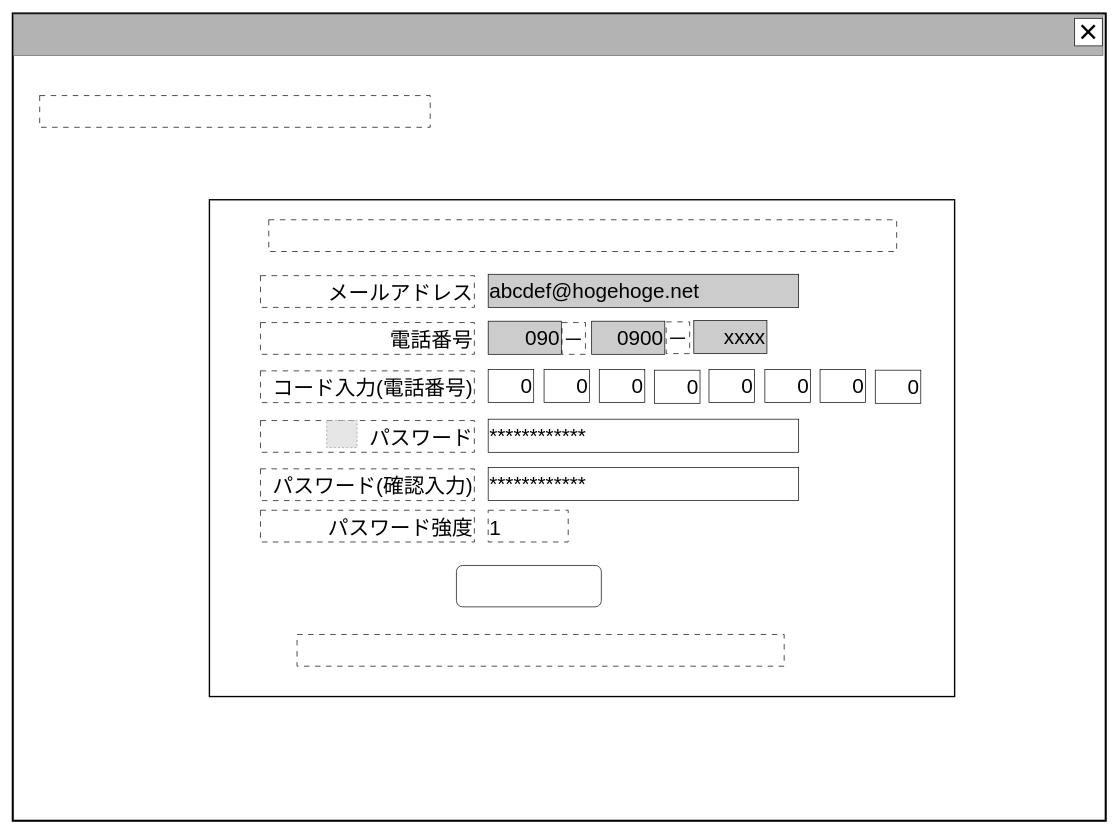
Image size: 1118x834. Some labels were removed from this diagram. Grey dashed boxes stand in for pictures. The centre of each missing label's shape, as x and y in pixels:
"※ログインページに戻る" belongs at [540,650].
"アカウントを作成します(疎通確認)" belongs at [234,111].
"メールアドレスと電話番号に入力間違いがないか確認をします" belongs at [582,235].
"申請" belongs at [528,586].
